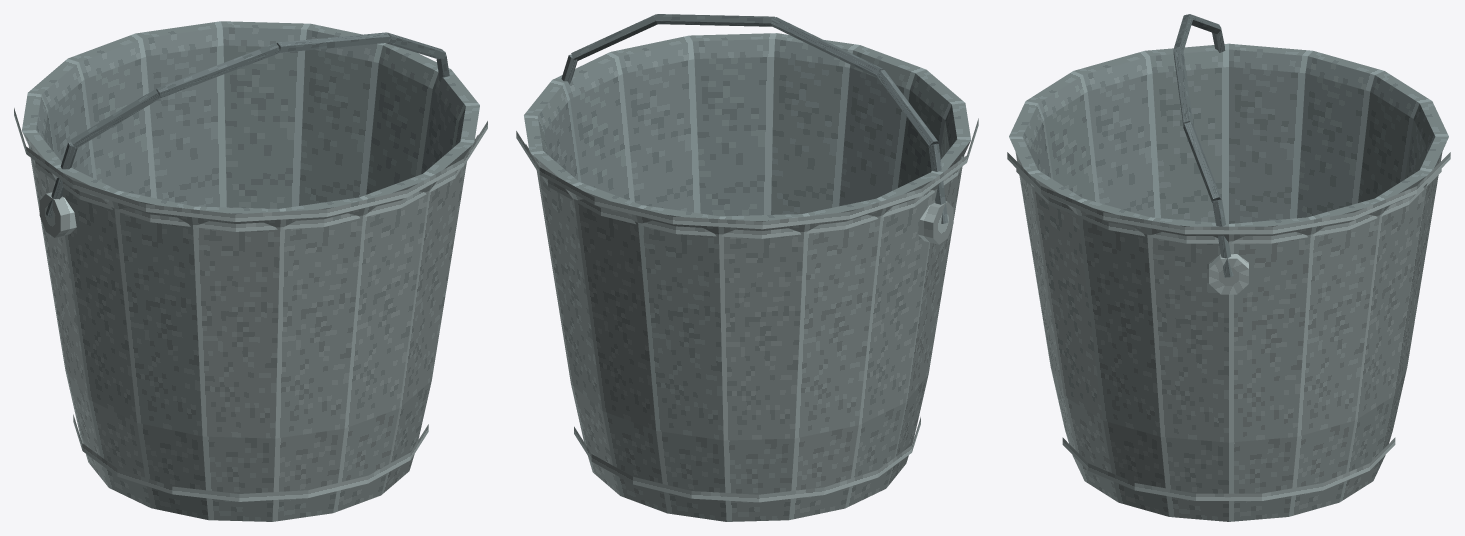
Rendered from bucket.glb.
The picture shows the model from 3 angles, left to right: view 1: azimuth 30°, elevation 25°; view 2: azimuth 150°, elevation 25°; view 3: azimuth 270°, elevation 25°; orthographic projection. The views are drawn at different scales.
Visible parts, largest first — view 1: block_tapered bucket body, block_raised rolled rim (×3), block_arched carry handle 2, block_arched carry handle 3, block_handle lug, block_arched carry handle 1, block_arched carry handle 4, block_arched carry handle 0; view 2: block_tapered bucket body, block_raised rolled rim (×3), block_arched carry handle 2, block_arched carry handle 3, block_handle lug, block_arched carry handle 1, block_arched carry handle 4, block_arched carry handle 0; view 3: block_tapered bucket body, block_raised rolled rim (×3), block_handle lug, block_arched carry handle 4, block_arched carry handle 3, block_arched carry handle 5.
Boxes of the visible parts, x1,y1,x2,y2 form: block_tapered bucket body: (22, 21, 479, 521); block_raised rolled rim (×3): (14, 108, 487, 501); block_arched carry handle 2: (156, 43, 279, 97); block_arched carry handle 3: (276, 32, 389, 52); block_handle lug: (39, 192, 76, 237); block_arched carry handle 1: (70, 89, 160, 148); block_arched carry handle 4: (386, 32, 445, 59); block_arched carry handle 0: (46, 142, 77, 218); block_tapered bucket body: (524, 33, 970, 521); block_raised rolled rim (×3): (516, 118, 978, 502); block_arched carry handle 2: (771, 17, 882, 77); block_arched carry handle 3: (654, 14, 774, 26); block_handle lug: (917, 201, 953, 244); block_arched carry handle 1: (876, 70, 937, 145); block_arched carry handle 4: (571, 15, 657, 61); block_arched carry handle 0: (928, 143, 948, 223); block_tapered bucket body: (1009, 43, 1448, 521); block_raised rolled rim (×3): (1007, 152, 1450, 500); block_handle lug: (1209, 254, 1248, 294); block_arched carry handle 4: (1183, 122, 1221, 202); block_arched carry handle 3: (1173, 47, 1193, 126); block_arched carry handle 5: (1212, 199, 1233, 277).
Size of the model in its own units: 0.2495 by 0.25 by 0.2457.
1 material, 1 textured.
